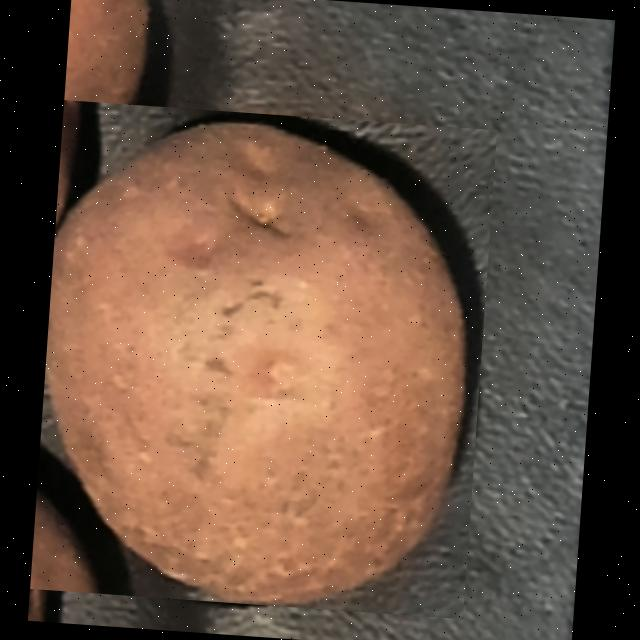Diseased-fungal potato: (28, 100, 496, 618)
